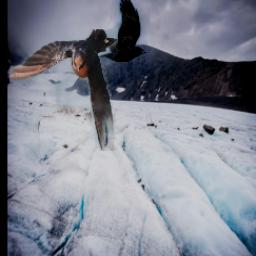Crow: (95, 0, 147, 63)
Swallow: (8, 29, 117, 151)
